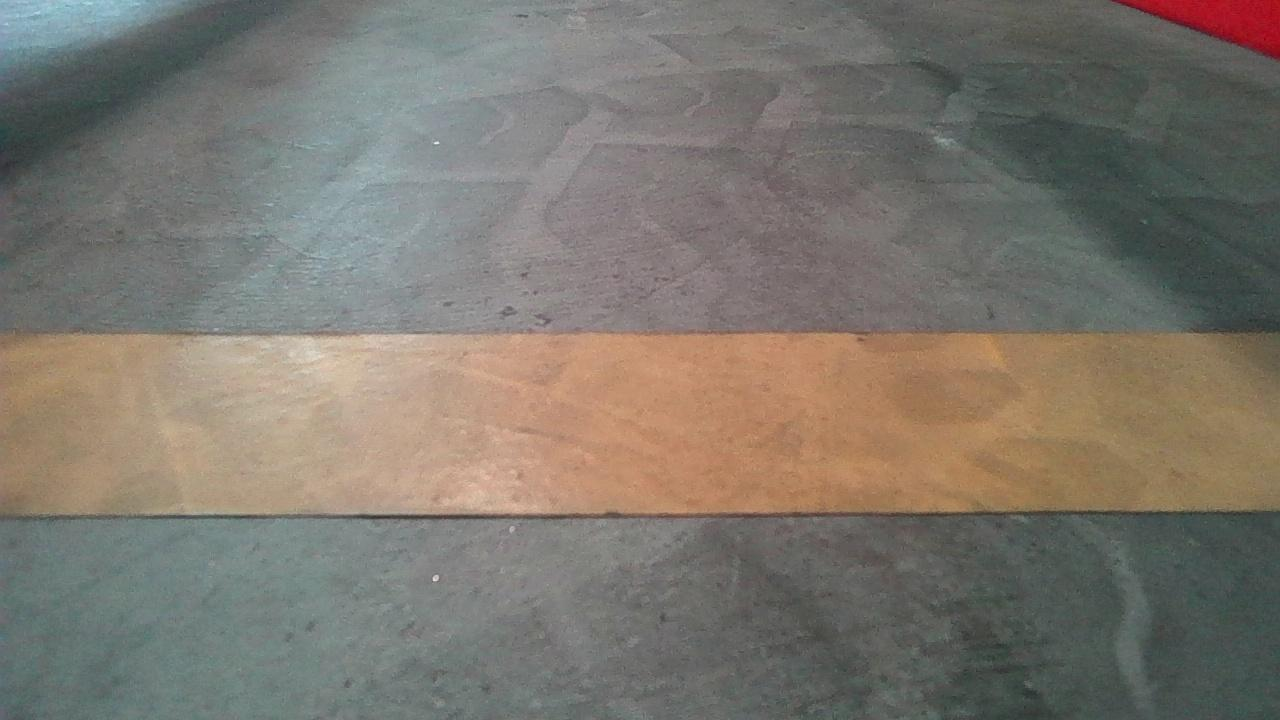yellow_line: (0, 313, 1271, 528)
